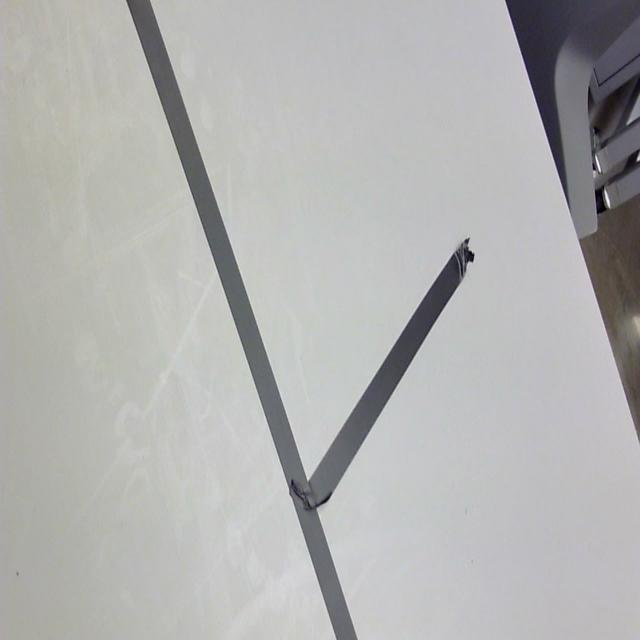tape: (100, 0, 512, 640)
